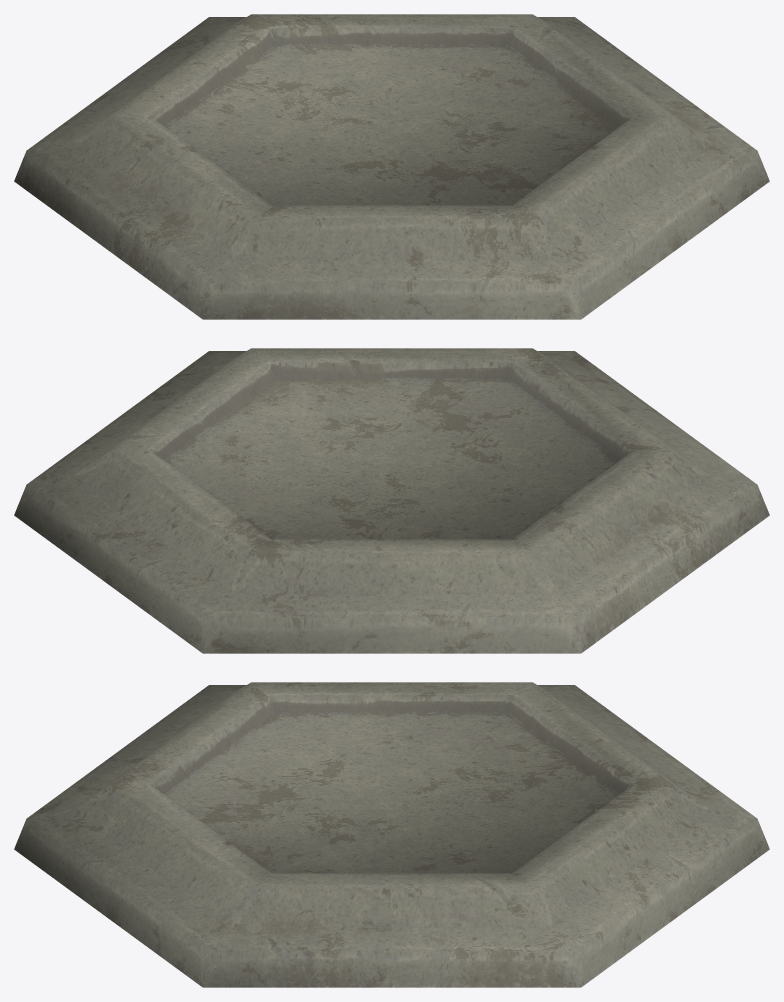
Rendered from AD_RuneGateGround_B_01.fbx.
The picture shows the model from 3 angles, top to bottom: view 1: azimuth 30°, elevation 25°; view 2: azimuth 150°, elevation 25°; view 3: azimuth 270°, elevation 25°; orthographic projection.
Visible parts, largest first — view 1: AD_RuneGateGround_B_01; view 2: AD_RuneGateGround_B_01; view 3: AD_RuneGateGround_B_01.
Boxes of the visible parts, x1,y1,x2,y2 form: AD_RuneGateGround_B_01: (14,14,769,319); AD_RuneGateGround_B_01: (14,348,769,653); AD_RuneGateGround_B_01: (14,682,769,987).
Bounding box in the file's own units: 674 × 73.07 × 778.
Materials: 1 (1 with a texture image).
